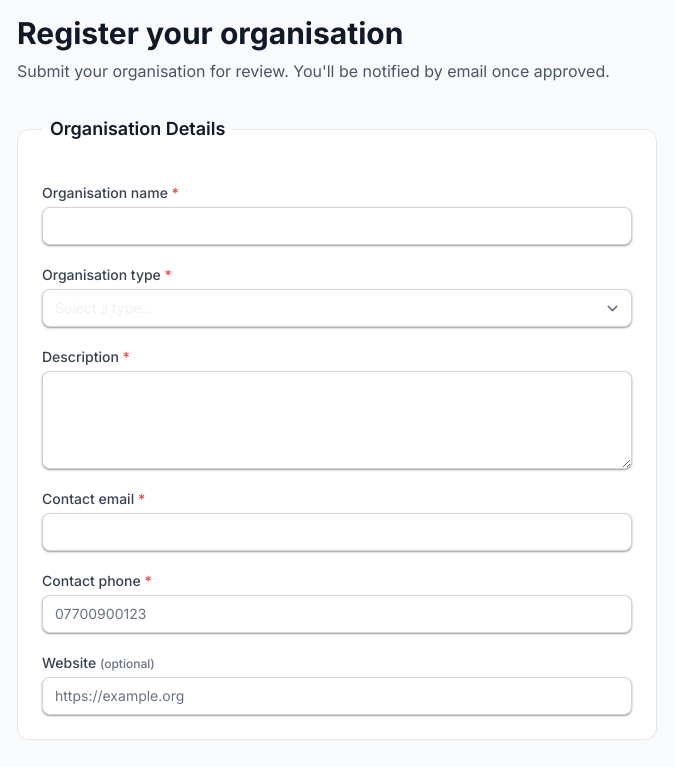
it: <OrgRegisterForm> › shows inline validation error when contactEmail is invalid format
Step 1. Type "not-an-email" into the field labelled "Contact email *" → (337, 532), box [42,513,632,551]
(page scrolled)
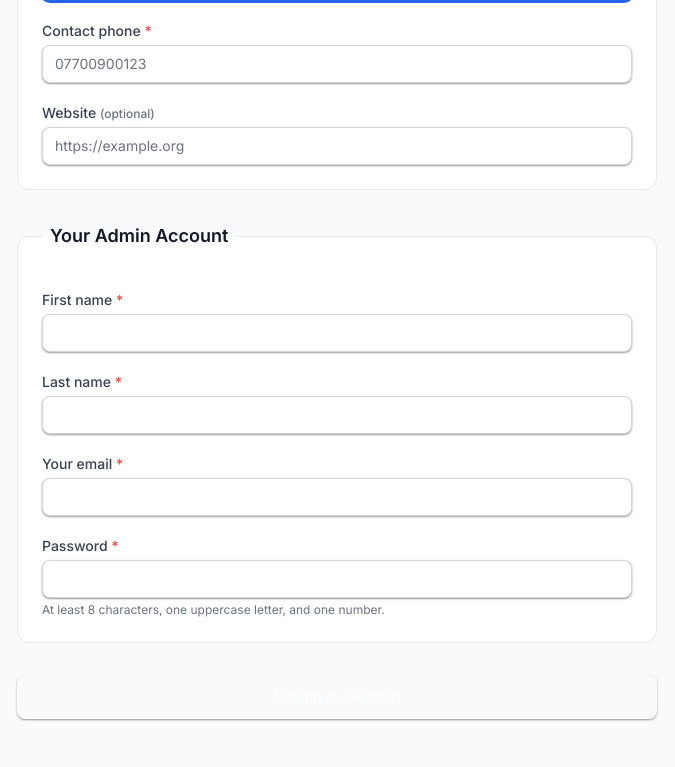
Step 2. Click the button "Submit application" → (337, 697), box [17,675,657,719]
(page scrolled)
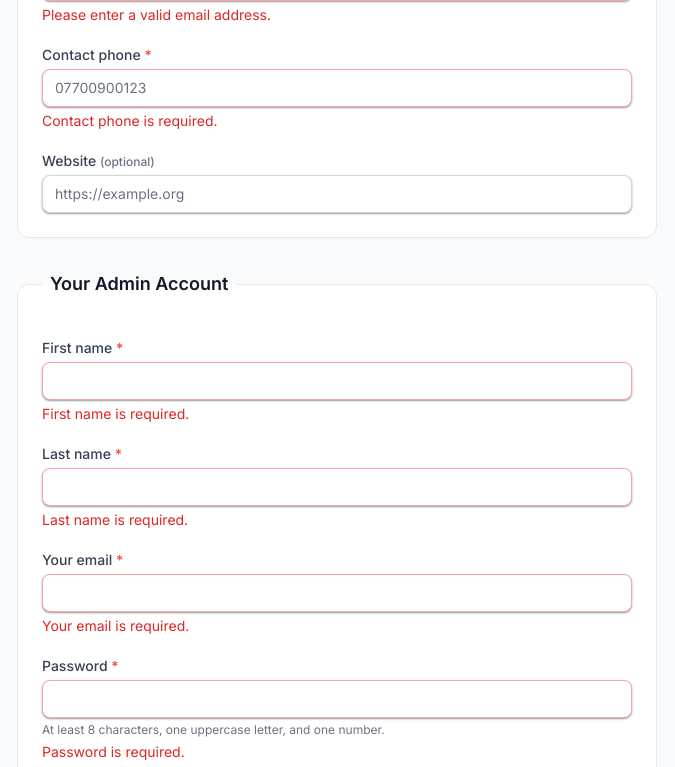
Result: the text "Please enter a valid email address." is shown at [42,6,271,23]
